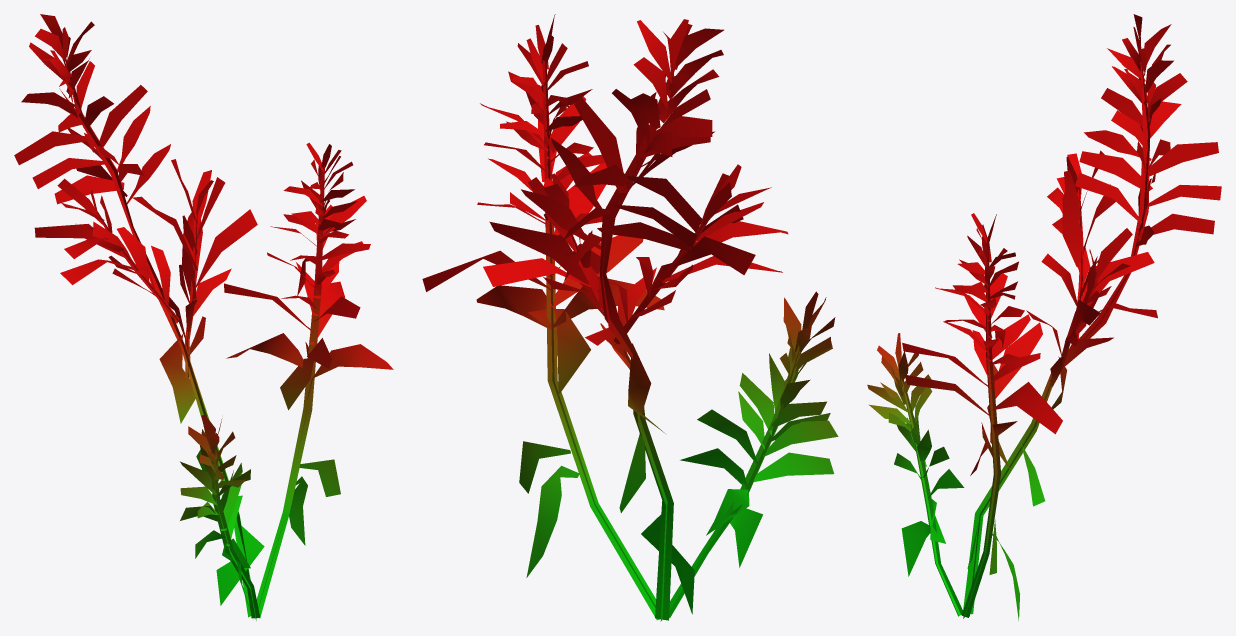
File: Var1_LOD1.fbx
The picture shows the model from 3 angles, left to right: view 1: azimuth 30°, elevation 25°; view 2: azimuth 150°, elevation 25°; view 3: azimuth 270°, elevation 25°; orthographic projection. The views are drawn at different scales.
Visible parts, largest first — view 1: _e601_Var1_LOD1; view 2: _e601_Var1_LOD1; view 3: _e601_Var1_LOD1.
Boxes of the visible parts, x1,y1,x2,y2 form: _e601_Var1_LOD1: [14, 14, 393, 620]; _e601_Var1_LOD1: [422, 14, 838, 621]; _e601_Var1_LOD1: [867, 14, 1221, 620].
Bounding box in the file's own units: 27.1 × 49.95 × 29.64.
